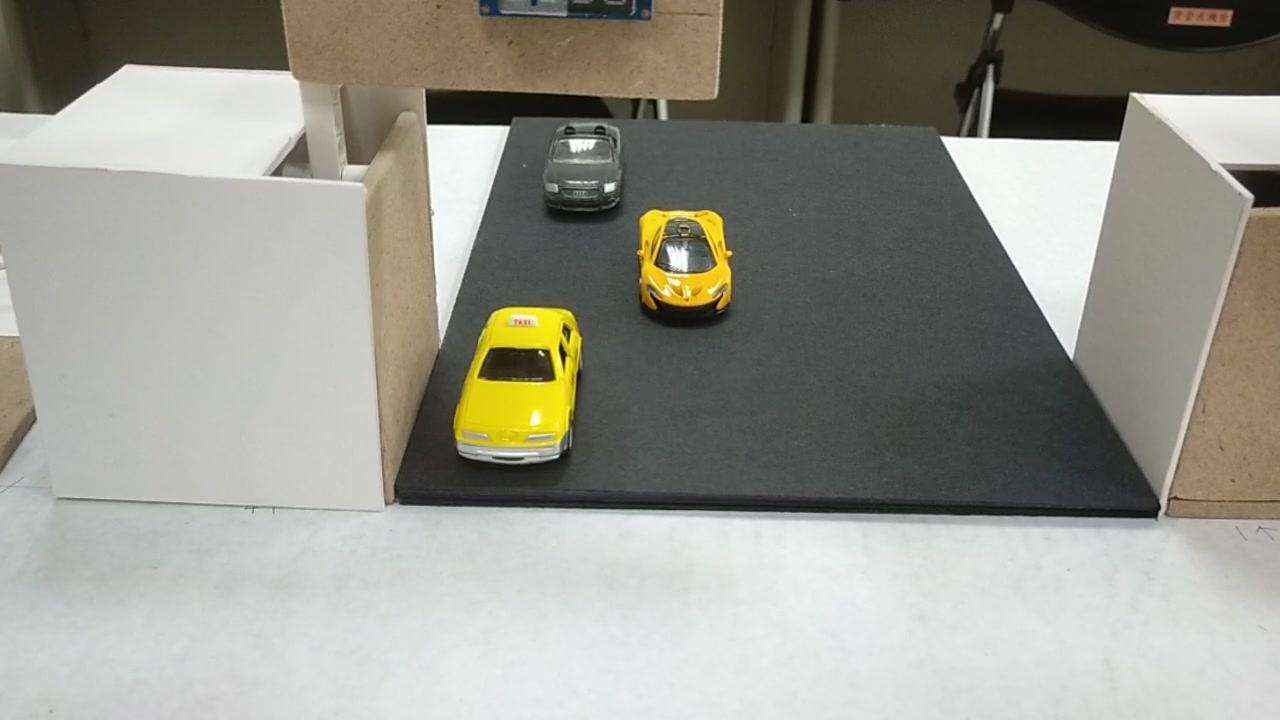car: (453, 310, 587, 459), (641, 203, 734, 324), (539, 120, 622, 211)
